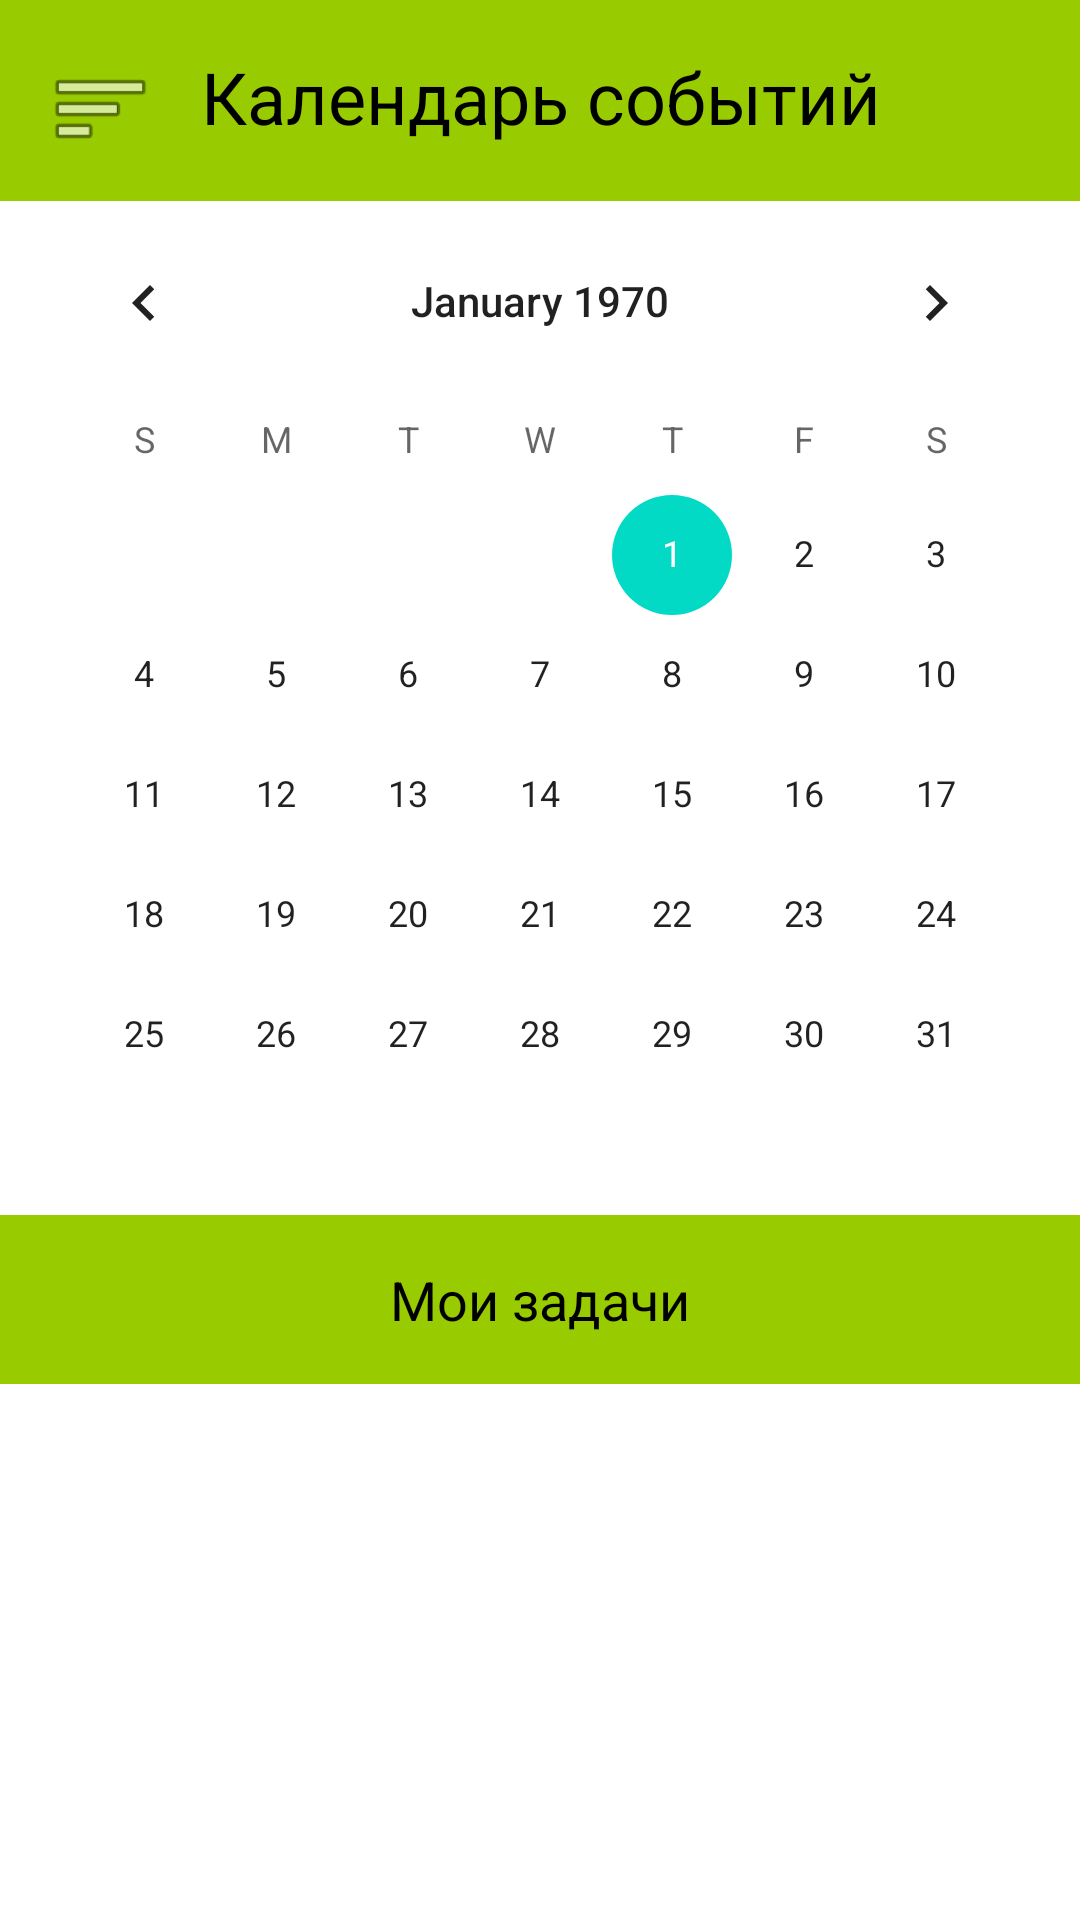

Where to tap for icons on this 1080x1920 app screen, as (x=x, y=y):
sort by size: (x=100, y=109)
